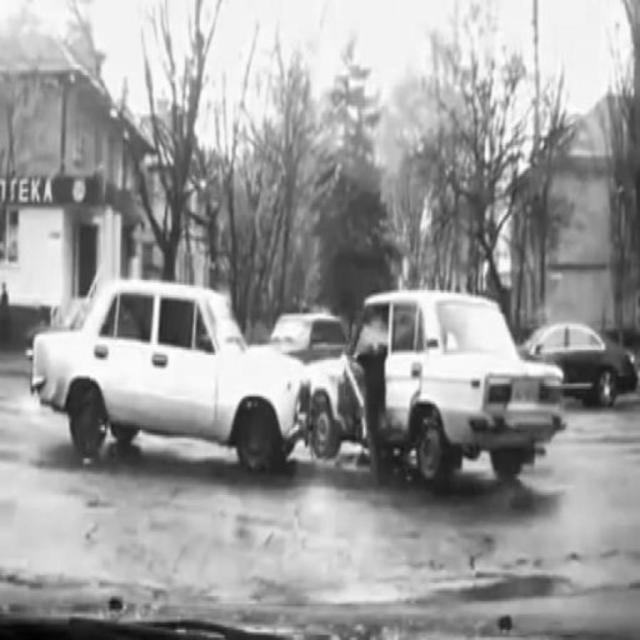accident: (29, 280, 565, 474)
vehicle: (524, 321, 635, 405)
